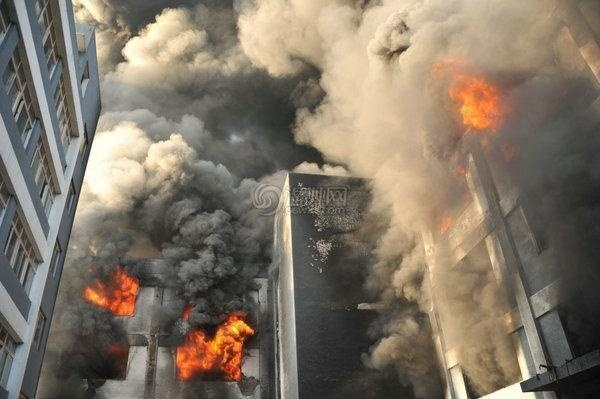fire: (173, 313, 252, 380), (441, 62, 506, 131), (87, 265, 140, 315)
